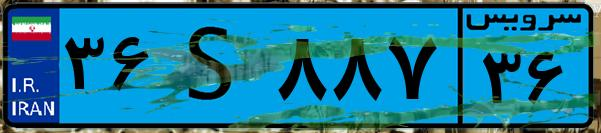3: (57, 26, 110, 100), (475, 38, 525, 113)
6: (525, 38, 570, 115), (110, 28, 158, 98)
7: (385, 28, 445, 110)
8: (270, 28, 330, 110), (330, 28, 385, 110)
S: (158, 12, 270, 120)
